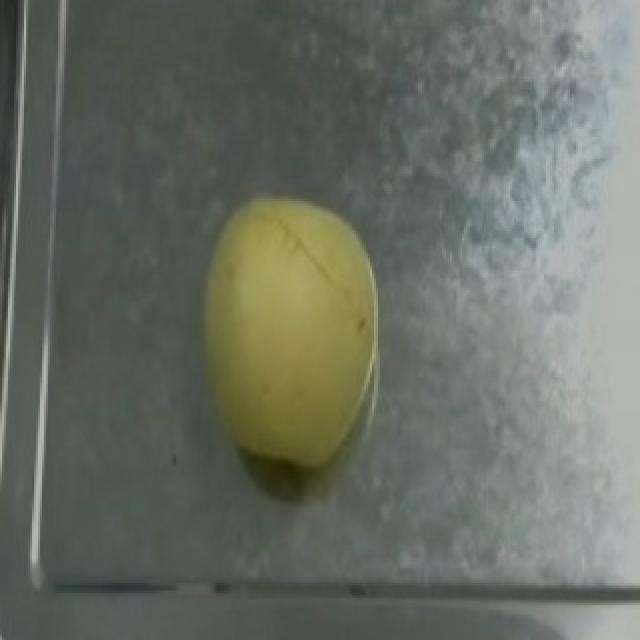Fruit: (182, 178, 394, 478)
